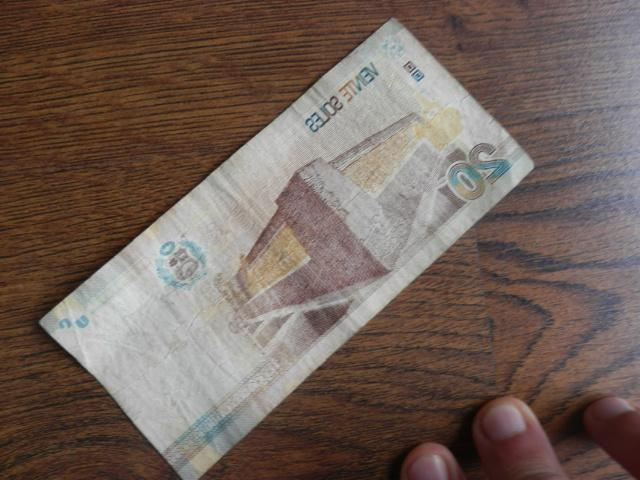B20: (39, 18, 534, 480)
